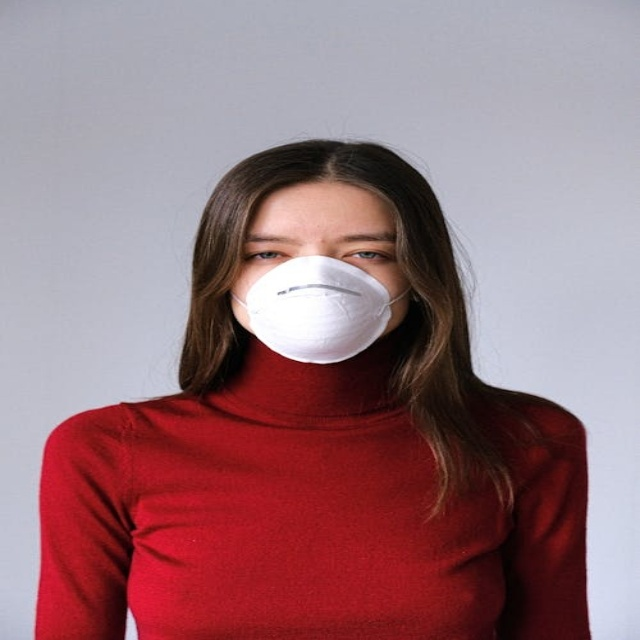Mascara: (233, 254, 399, 363)
Sin_gafas: (241, 225, 398, 272)
